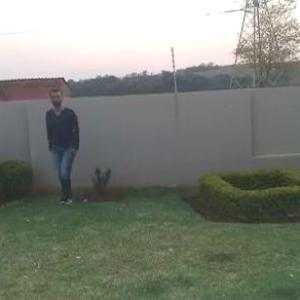follow: (46, 85, 100, 206)
